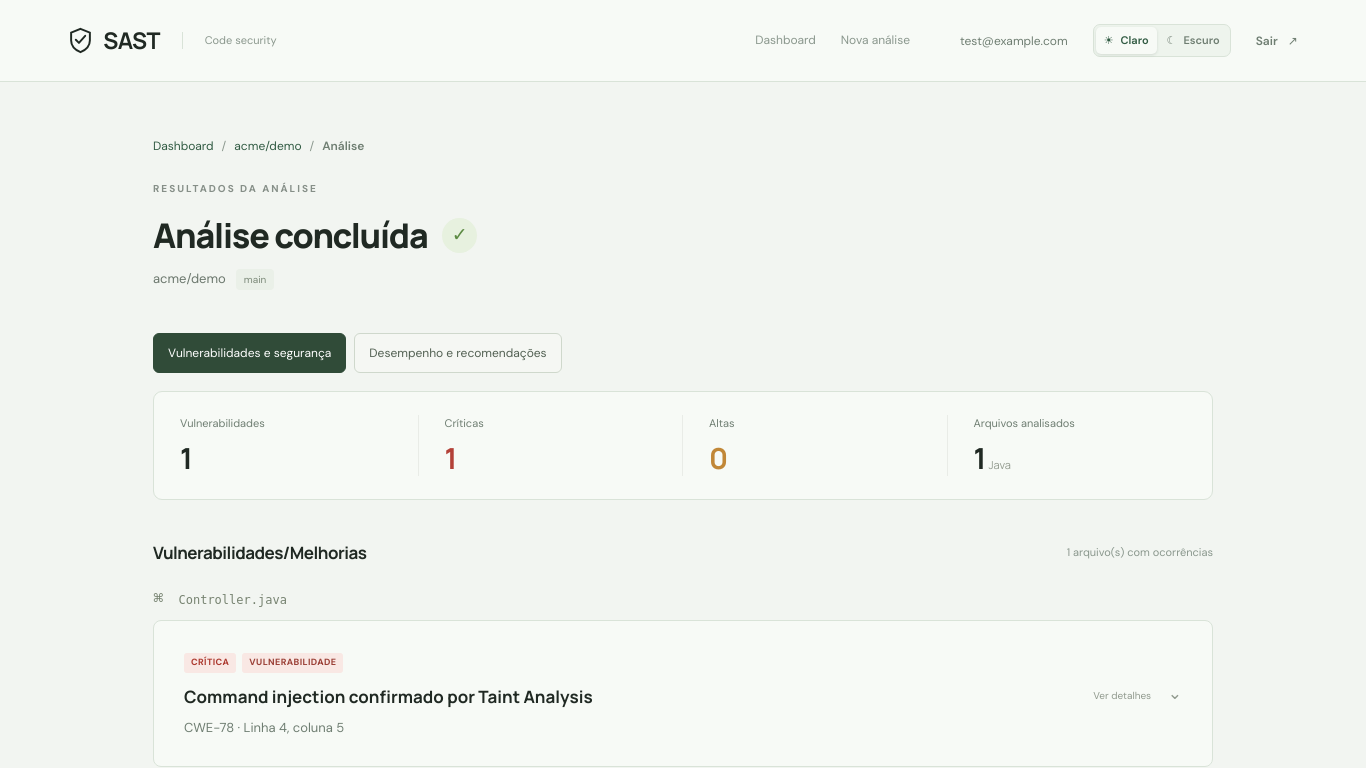
Test case: fluxo autenticado da análise › exibe o rastro de taint analysis quando o finding possui taintTrace
Check: the heading "Análise concluída ✓" is shown, box [153, 214, 476, 256]
What coordinates should you click on to do the following:
click the text "Ver detalhes ⌄"
I would click on:
 (1138, 694)
Its box is [1093, 681, 1182, 706].
(page scrolled)
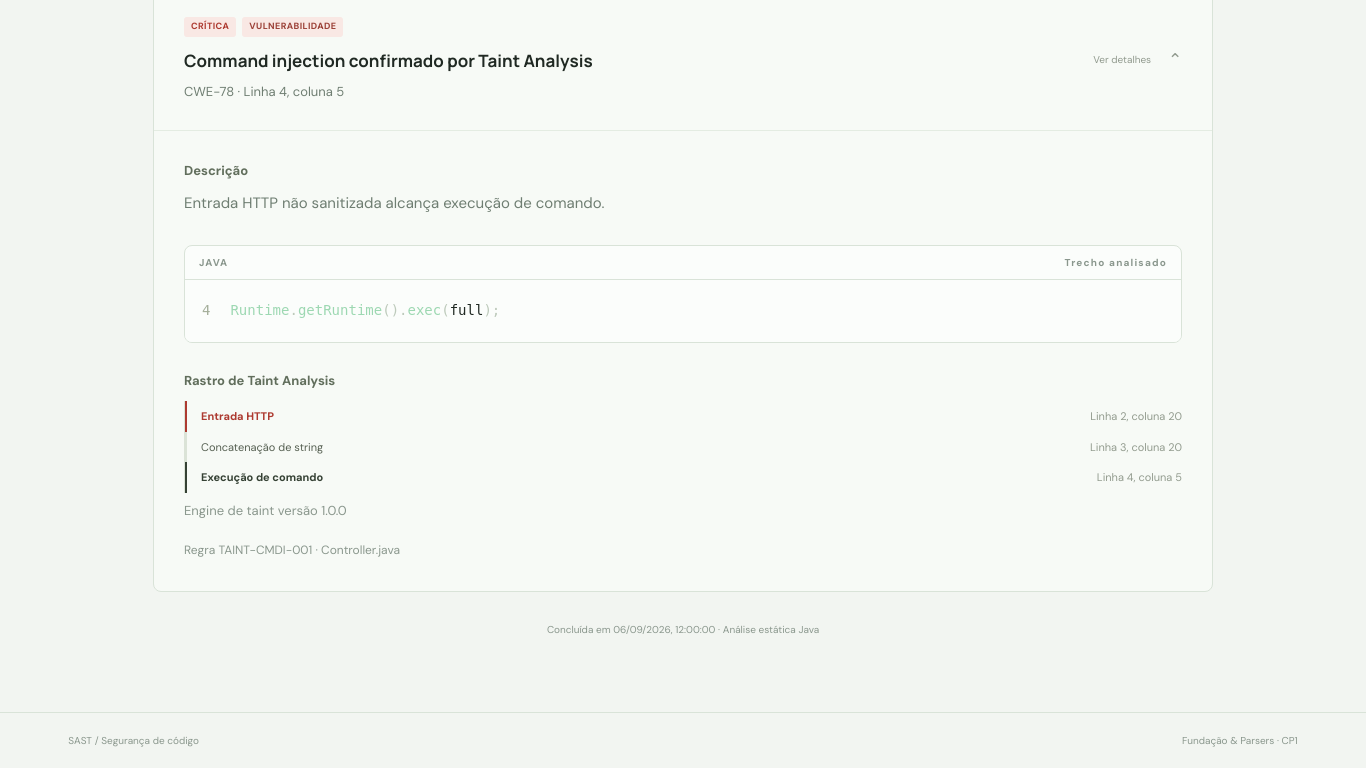
Check: the heading "Rastro de Taint Analysis" is shown, box [184, 372, 335, 389]
Check: the text "Entrada HTTP" is shown, box [201, 408, 274, 425]
Check: the text "Execução de comando" is shown, box [201, 469, 323, 486]
